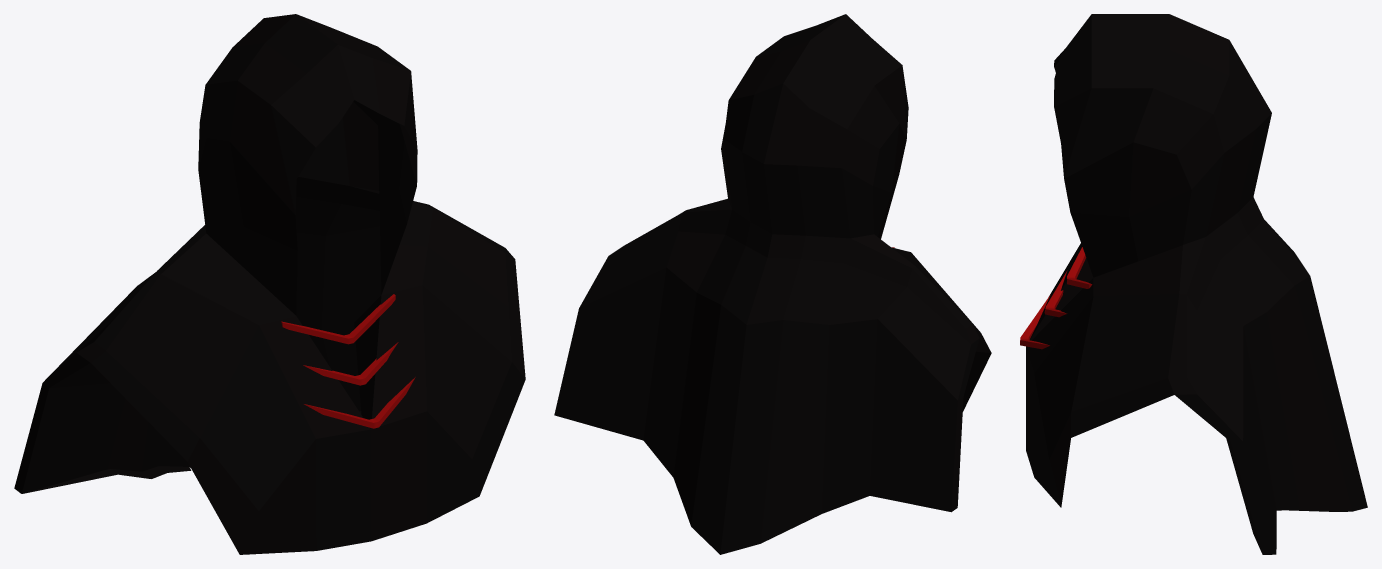
The model's file is Hood_Necromancer.fbx.
3 views of the same model, side by side, from view 1: azimuth 30°, elevation 25°; view 2: azimuth 150°, elevation 25°; view 3: azimuth 270°, elevation 25° (orthographic). The views are drawn at different scales.
Visible parts, largest first — view 1: pCube7; view 2: pCube7; view 3: pCube7.
Boxes of the visible parts, x1,y1,x2,y2 form: pCube7: [14, 14, 525, 554]; pCube7: [554, 14, 991, 554]; pCube7: [1020, 14, 1367, 554].
Bounding box in the file's own units: 65.12 × 70.37 × 44.93.
